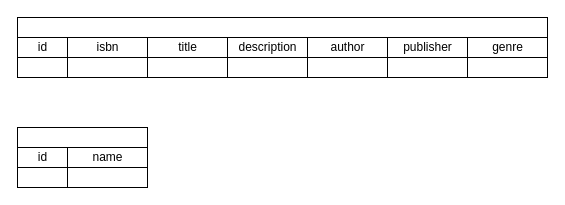
The diagram is 565 pixels wide and 205 high, and some of its shapes have lost their labels. Each missing label, with the centre of its shape:
"Book" belongs at (282,27).
"BookStore" belongs at (82,137).
